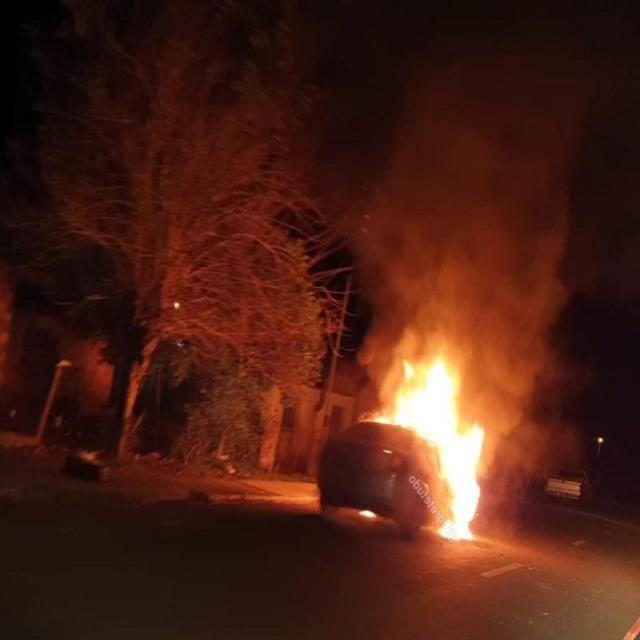Fire: (365, 345, 482, 537)
